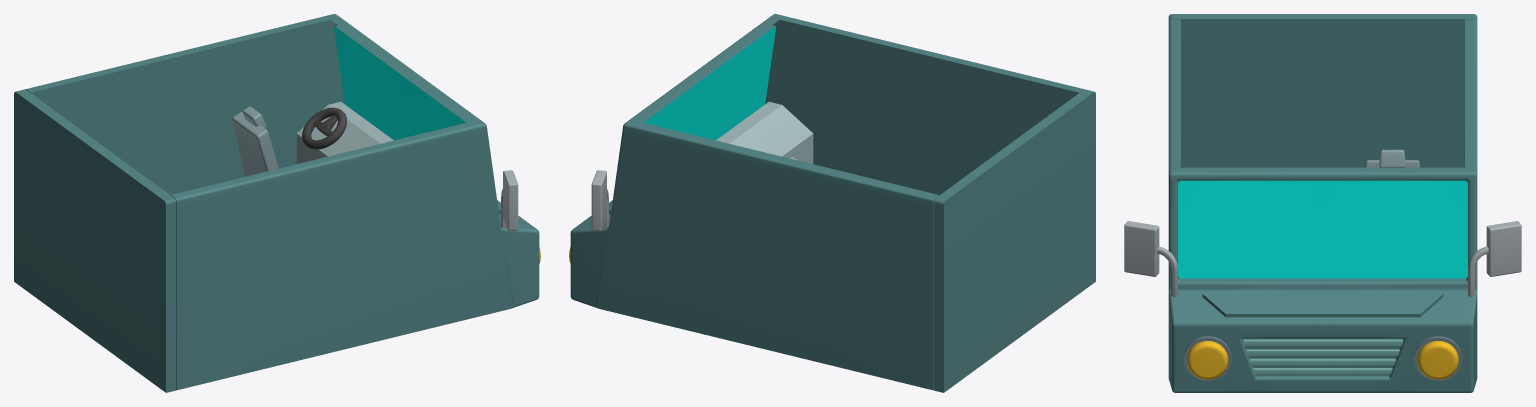
The model's file is bus.fbx.
3 renders of one model, left to right at view 1: azimuth 30°, elevation 25°; view 2: azimuth 150°, elevation 25°; view 3: azimuth 270°, elevation 25°, orthographic.
Parts seen in each view (by area): view 1: frontRight, back, sideRight, frontLeft, sideLeft, frontMid, cockpit, seat, wheel; view 2: frontLeft, back, sideLeft, frontRight, sideRight, frontMid, cockpit; view 3: back, frontRight, frontLeft, frontMid, frontGrid, sideLeft, sideRight, seat.
Boxes of the visible parts, box(x1,y1,x2,y2) form: frontRight: box(318, 88, 540, 354); back: box(14, 89, 176, 392); sideRight: box(170, 159, 323, 390); frontLeft: box(173, 14, 388, 192); sideLeft: box(25, 53, 177, 195); frontMid: box(373, 48, 437, 140); cockpit: box(296, 101, 393, 163); seat: box(232, 106, 278, 176); wheel: box(302, 107, 346, 149); frontLeft: box(569, 88, 791, 354); back: box(933, 89, 1095, 392); sideLeft: box(786, 159, 939, 390); frontRight: box(721, 14, 936, 192); sideRight: box(932, 53, 1084, 195); frontMid: box(672, 48, 736, 140); cockpit: box(716, 101, 813, 163); back: box(1168, 14, 1477, 167); frontRight: box(1124, 92, 1267, 392); frontLeft: box(1378, 92, 1521, 392); frontMid: box(1268, 167, 1377, 392); frontGrid: box(1242, 339, 1403, 374); sideLeft: box(1464, 19, 1477, 167); sideRight: box(1168, 19, 1181, 167); seat: box(1365, 149, 1419, 167).
Size of the model in its own units: 41.38 by 19.57 by 36.39.
